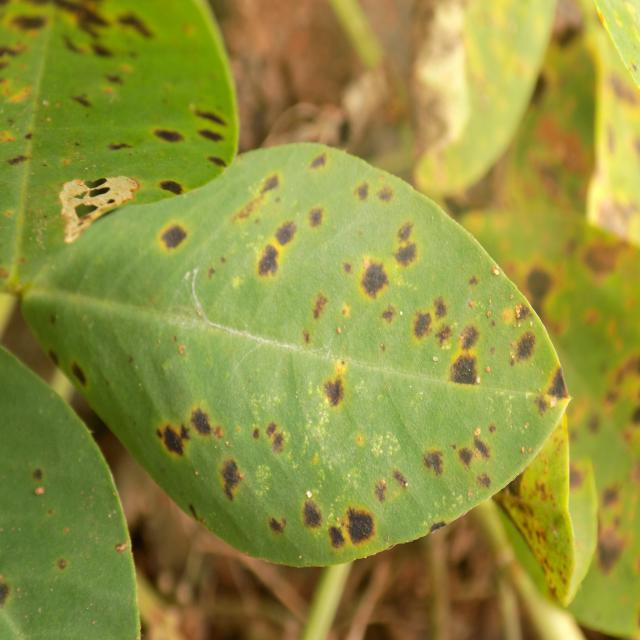Ground nut_tikka leaf spot: (22, 139, 570, 559)
